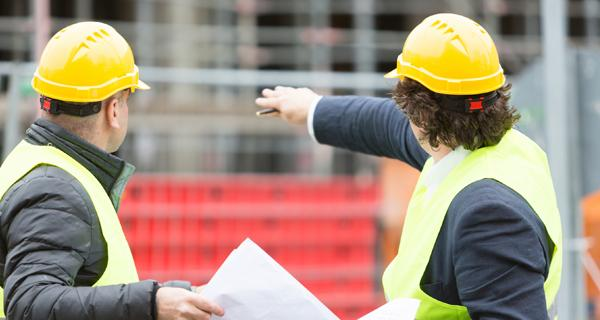helmet: (384, 13, 506, 98), (31, 22, 152, 105)
